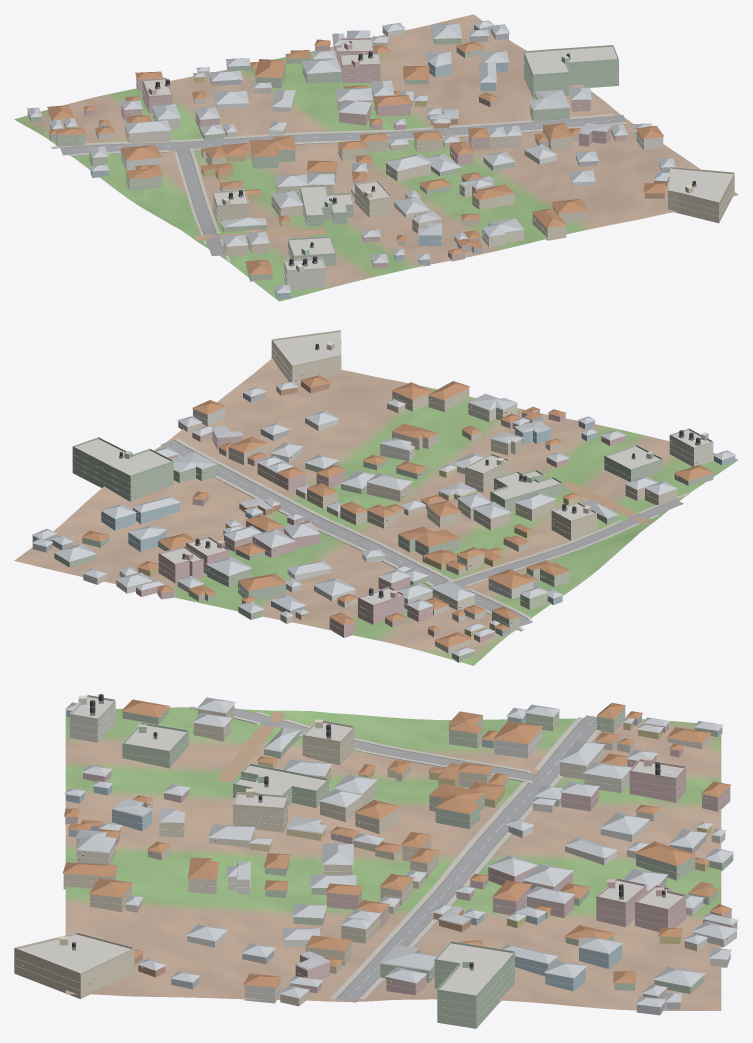
3 renders of one model, top to bottom at view 1: azimuth 30°, elevation 25°; view 2: azimuth 150°, elevation 25°; view 3: azimuth 270°, elevation 25°, orthographic. The views are drawn at different scales.
Visible parts, largest first — view 1: Buildings-col, Terrain-col, Details, Roads-col, Sidewalks-col; view 2: Buildings-col, Terrain-col, Details, Roads-col, Sidewalks-col; view 3: Buildings-col, Terrain-col, Details, Roads-col, Sidewalks-col.
Part boxes in pixels (box(x1,y1,x2,y2)): Buildings-col: box(27, 20, 734, 299); Terrain-col: box(14, 14, 738, 301); Details: box(41, 33, 734, 295); Roads-col: box(60, 115, 625, 255); Sidewalks-col: box(51, 113, 626, 261); Buildings-col: box(32, 332, 736, 662); Terrain-col: box(14, 358, 738, 665); Details: box(72, 330, 713, 631); Roads-col: box(161, 440, 683, 626); Sidewalks-col: box(174, 438, 688, 631); Buildings-col: box(14, 697, 738, 1028); Terrain-col: box(65, 707, 721, 1010); Details: box(14, 694, 730, 1020); Roads-col: box(216, 708, 596, 1002); Sidewalks-col: box(190, 706, 600, 999).
Bounding box in the file's own units: 282 × 24.23 × 283.
